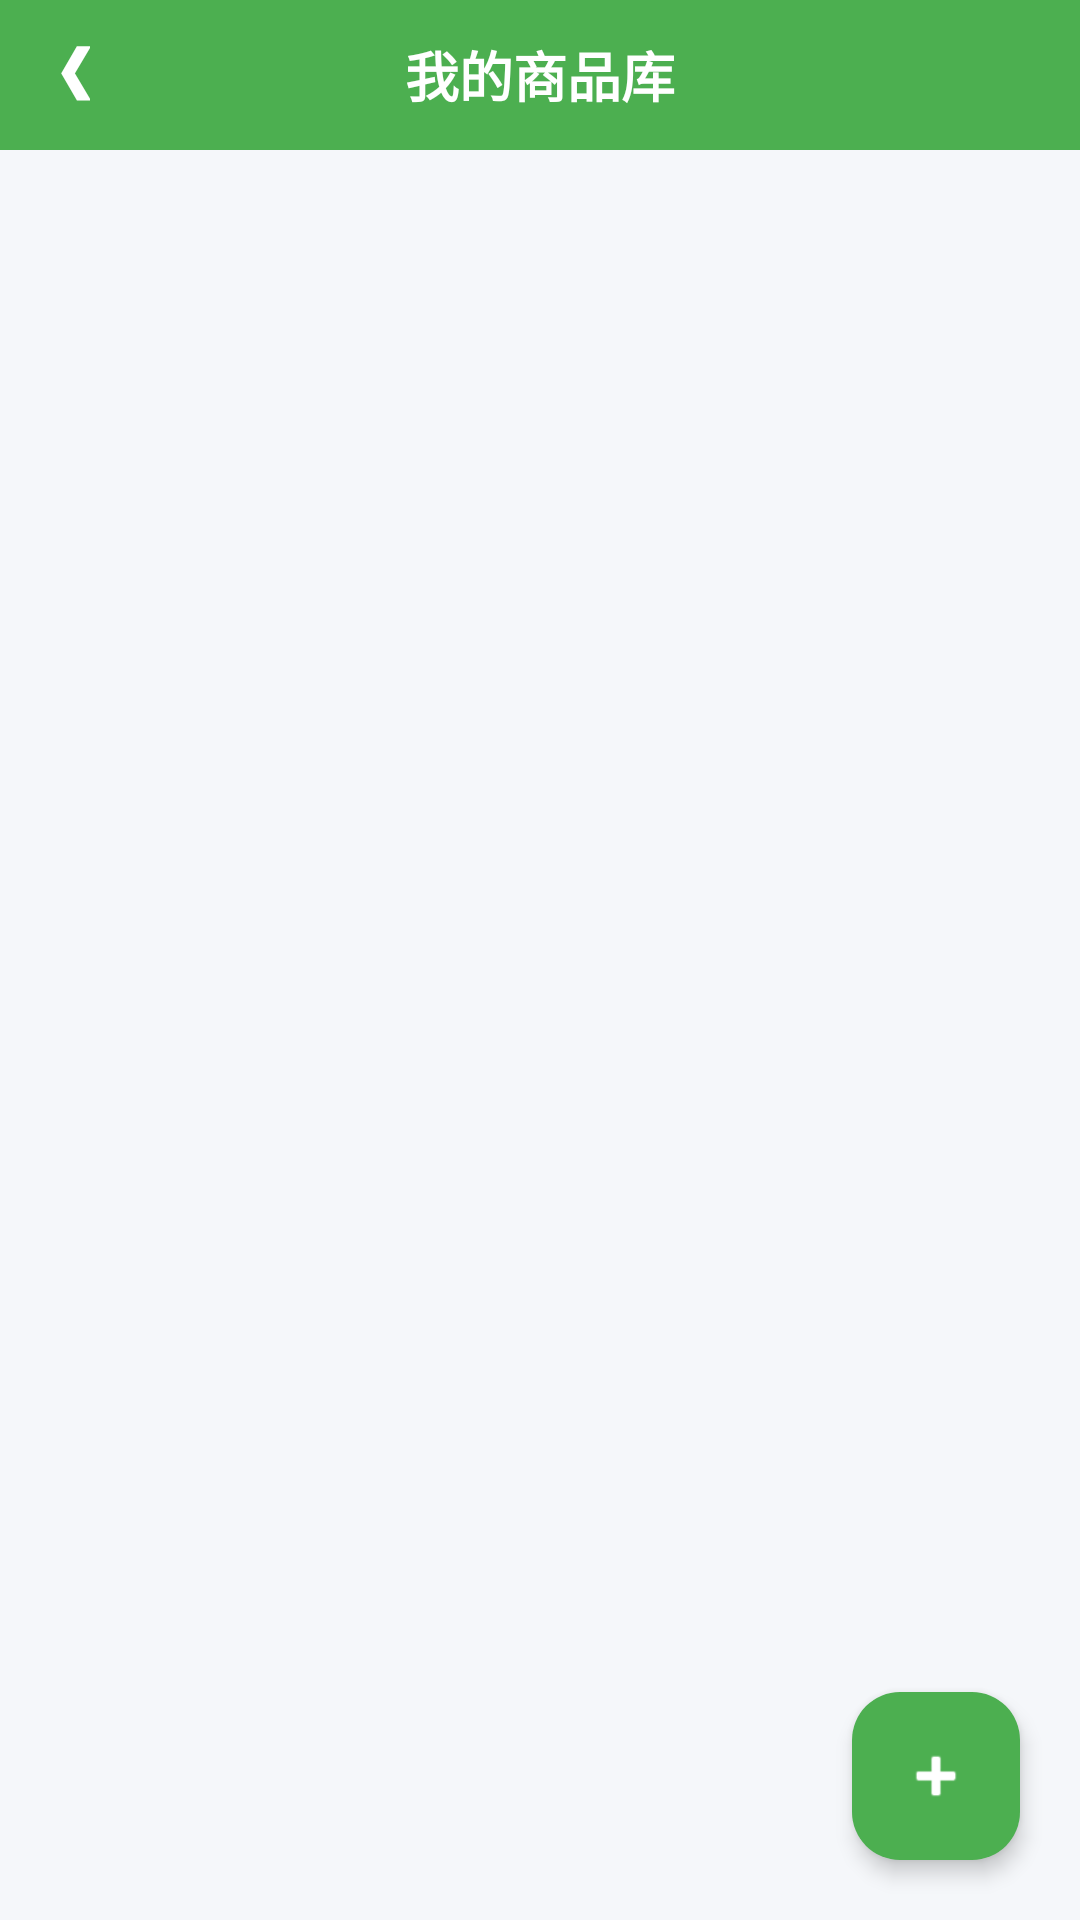

Screen size 1080px×1920px. Icon name, then its box in pixels as (x1, y1, x2, y2):
发布新商品: (852, 1692, 1020, 1860)
